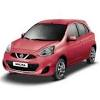Nissan: (2, 18, 86, 79)
